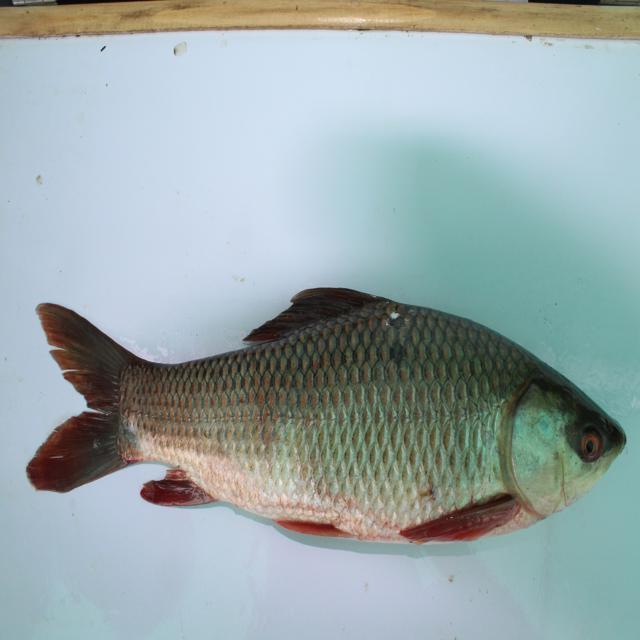Rohu: (18, 280, 623, 557)
